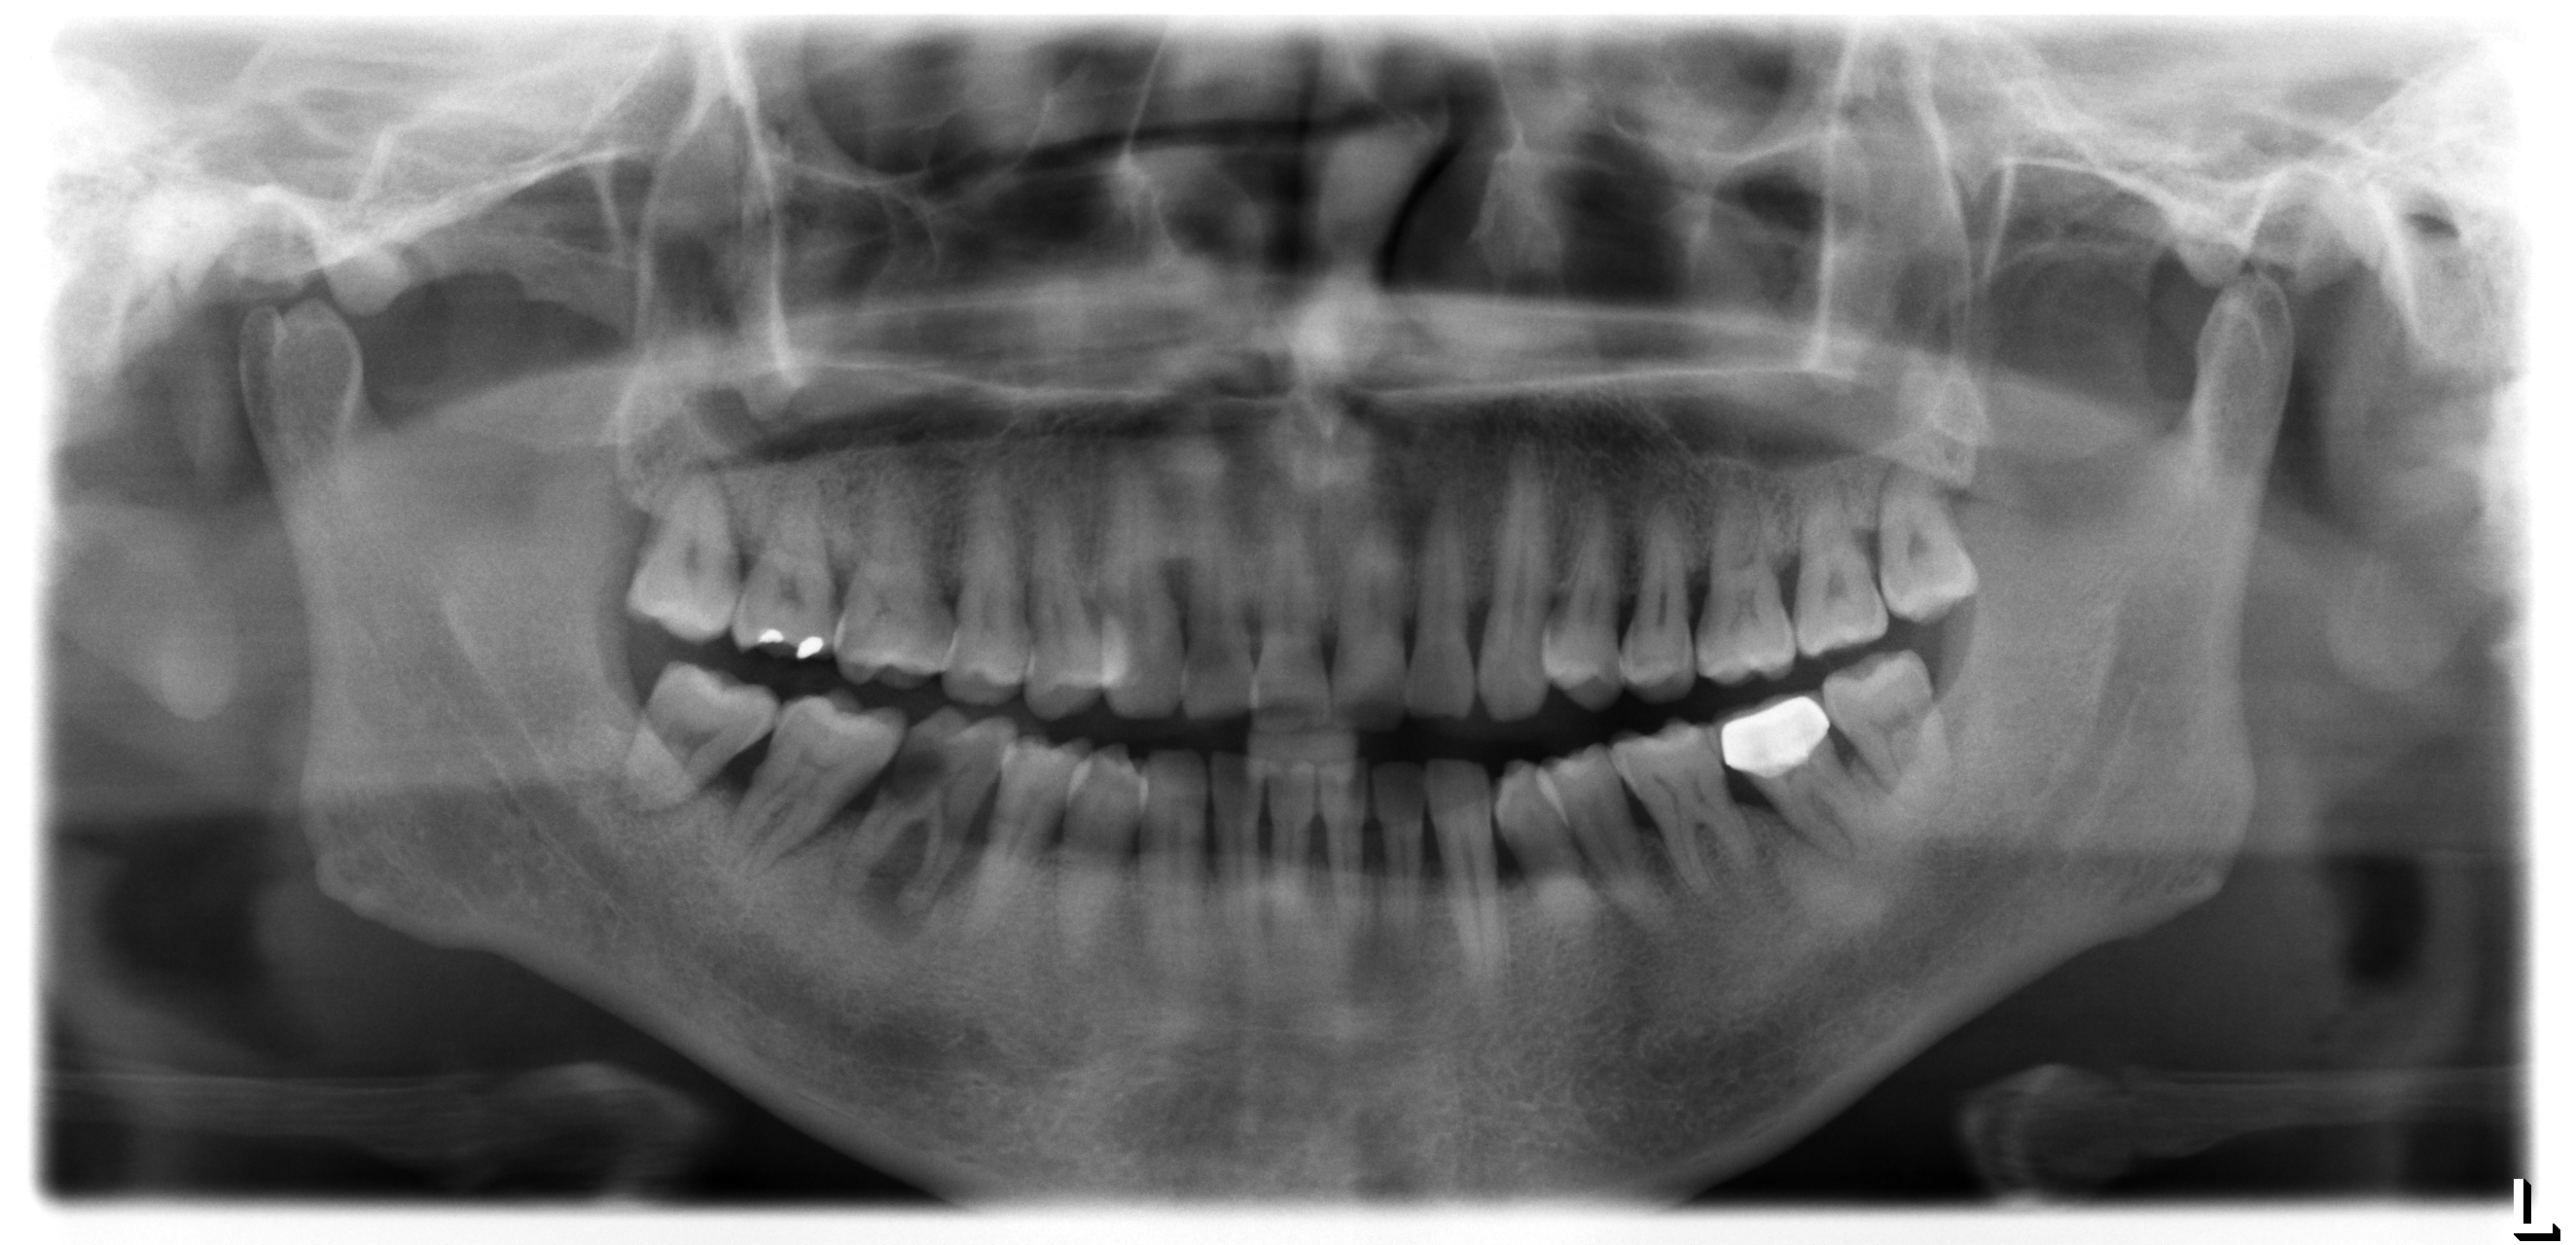Decay: (866, 739, 950, 815)
